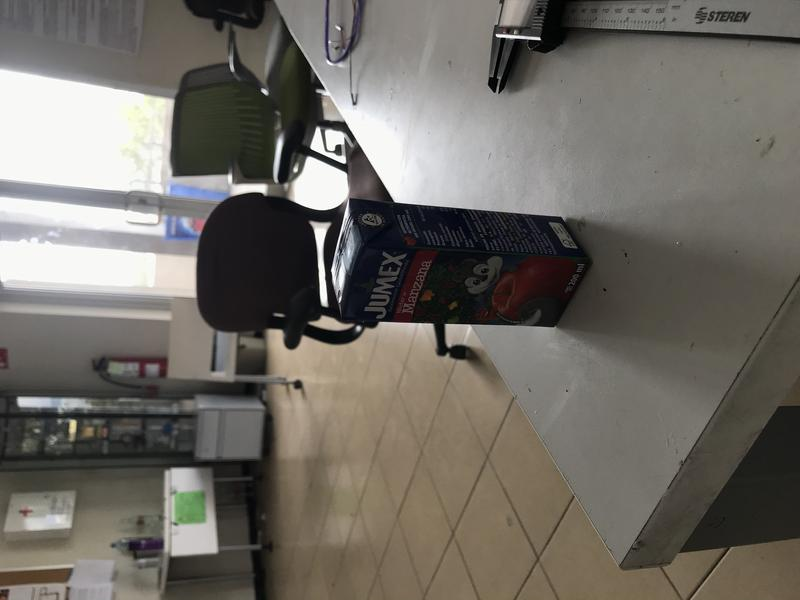jumex_cajita: (331, 198, 594, 329)
